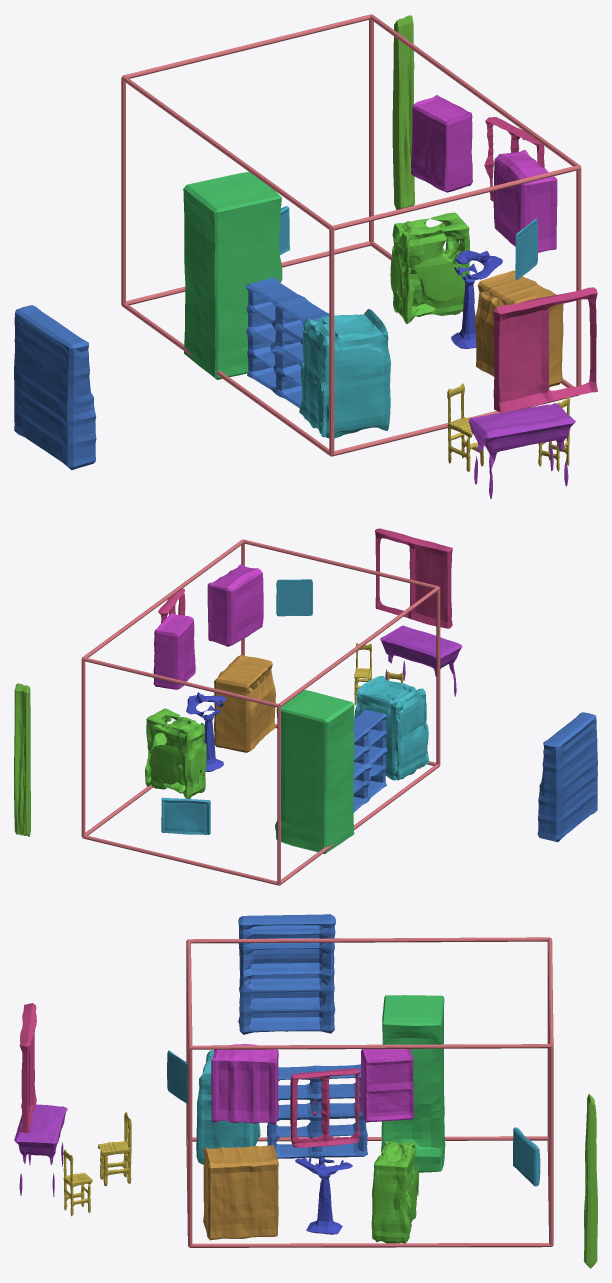
The picture shows the model from 3 angles, top to bottom: view 1: azimuth 30°, elevation 25°; view 2: azimuth 150°, elevation 25°; view 3: azimuth 270°, elevation 25°; orthographic projection. The views are drawn at different scales.
Visible parts, largest first — view 1: world; view 2: world; view 3: world.
Part boxes in pixels (x1,y1,x2,y2): world: (14, 14, 597, 498); world: (14, 528, 597, 885); world: (14, 914, 597, 1268).
Bounding box in the file's own units: 6.15 × 2.55 × 6.47.
